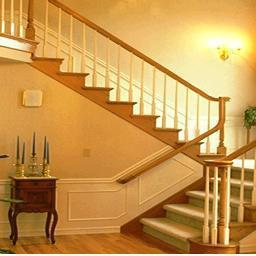Escaleras: (30, 0, 224, 153), (139, 136, 254, 244)
